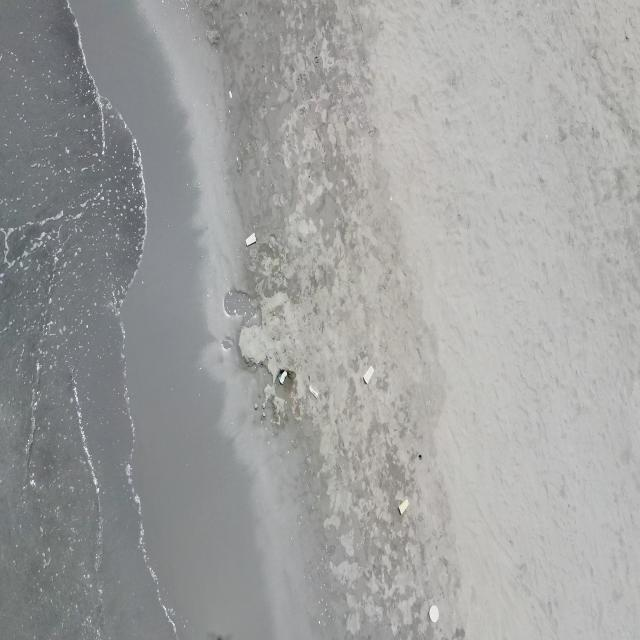takeaway-cup: (364, 365, 374, 385), (398, 498, 409, 516), (429, 605, 439, 623), (309, 384, 319, 400), (246, 232, 256, 247), (278, 370, 288, 385)
